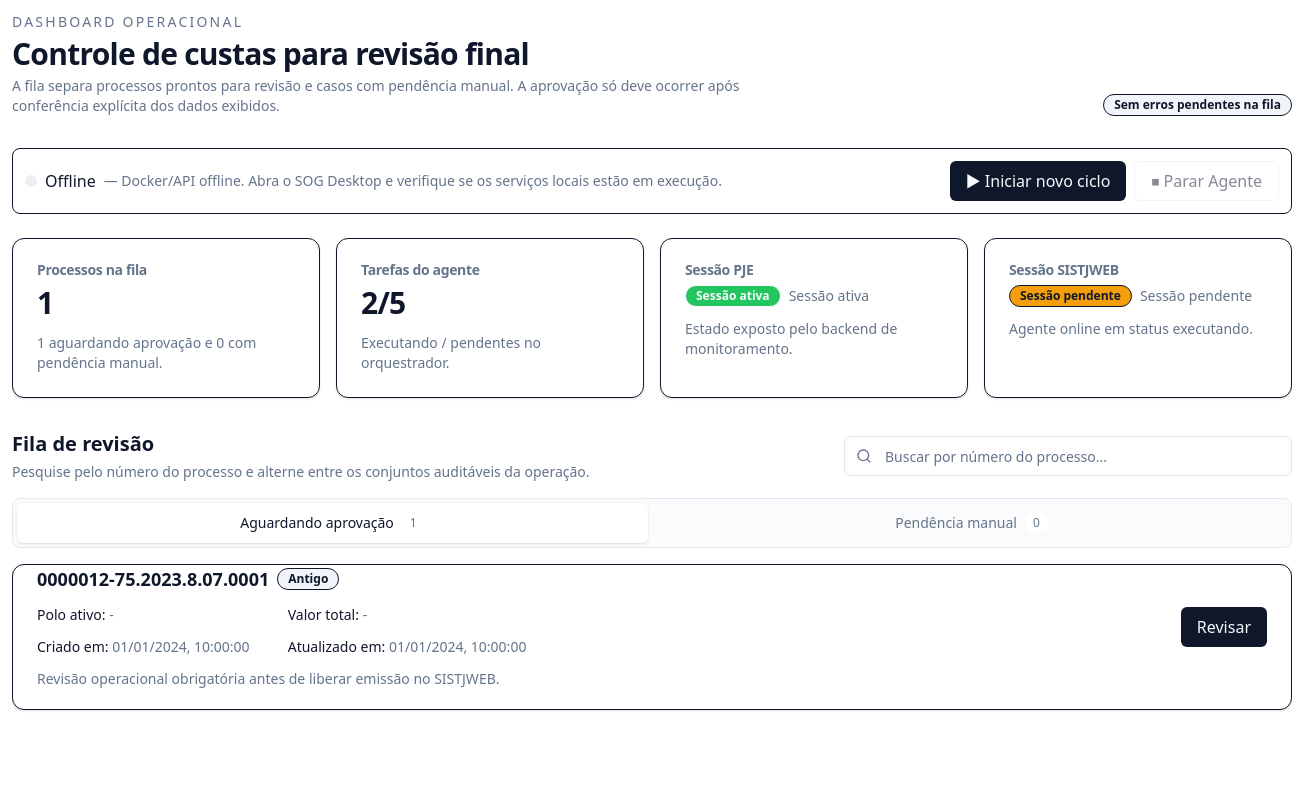
Test: Fila › exibe mensagem de estado vazio quando busca não encontra resultados
Expected: the text "0000012-75.2023.8.07.0001" is shown, [37,565,269,593]
In the field labelled "Buscar por número do processo...": (1068, 456) [844,436,1292,476], type "9999999"
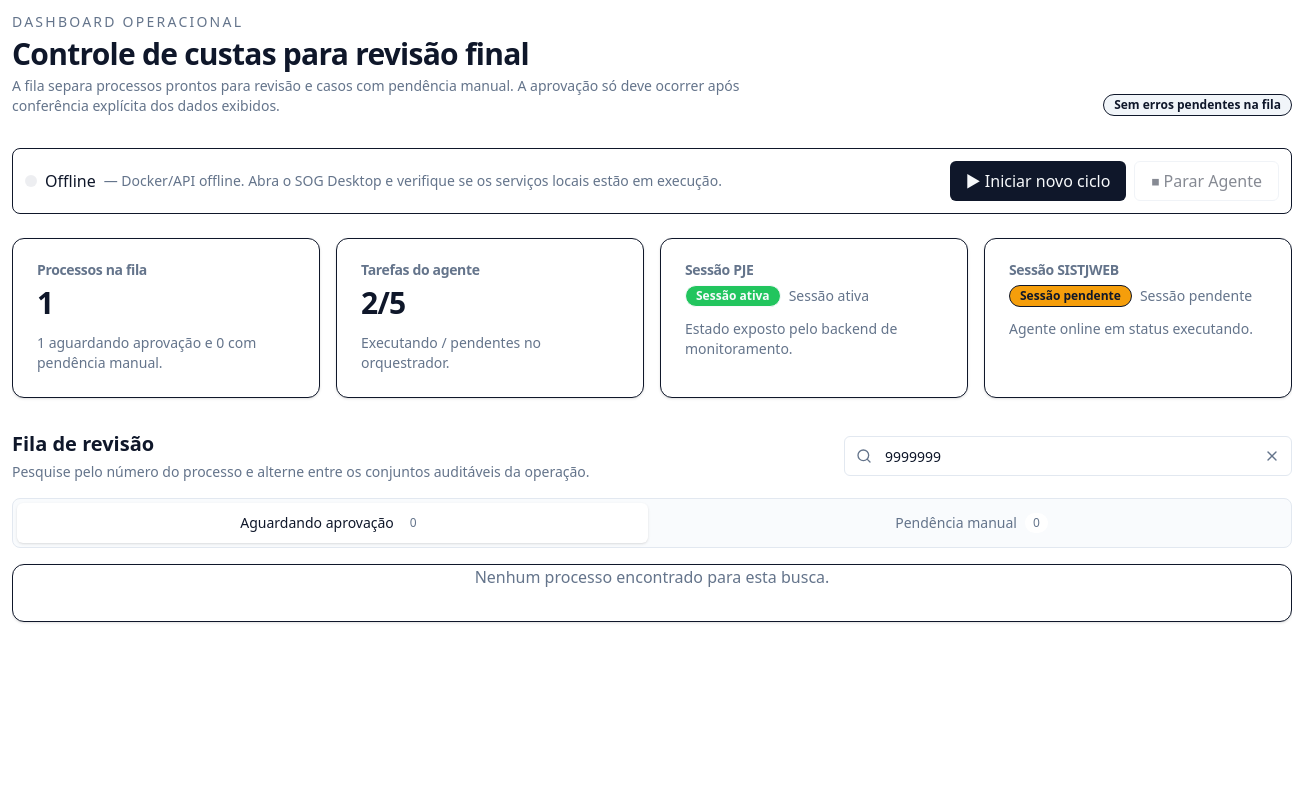
Now the text "Nenhum processo encontrado para esta busca." is shown, box [475,566,829,588]
